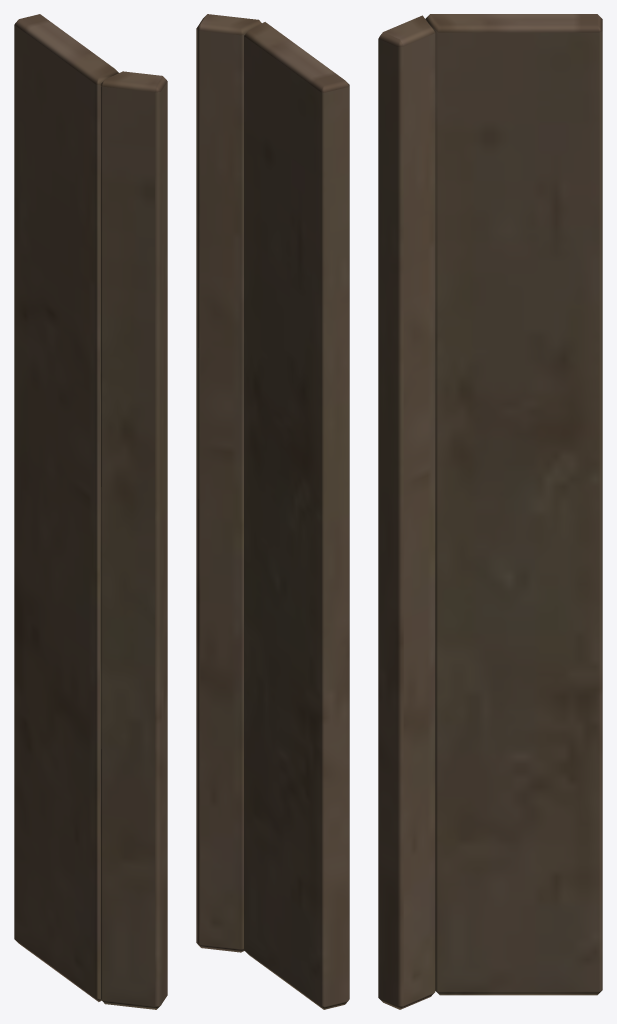
The model's file is wall.half.frontier.corner.r.glb.
3 views of the same model, side by side, from view 1: azimuth 30°, elevation 25°; view 2: azimuth 210°, elevation 25°; view 3: azimuth 270°, elevation 25° (orthographic). The views are drawn at different scales.
Parts seen in each view (by area): view 1: model; view 2: model; view 3: model.
Boxes of the visible parts, x1,y1,x2,y2 form: model: [14, 14, 167, 1009]; model: [196, 14, 349, 1009]; model: [378, 14, 602, 1009].
Bounding box in the file's own units: 0.0984 × 1.51 × 0.3158.
Materials: 1 (1 with a texture image).
